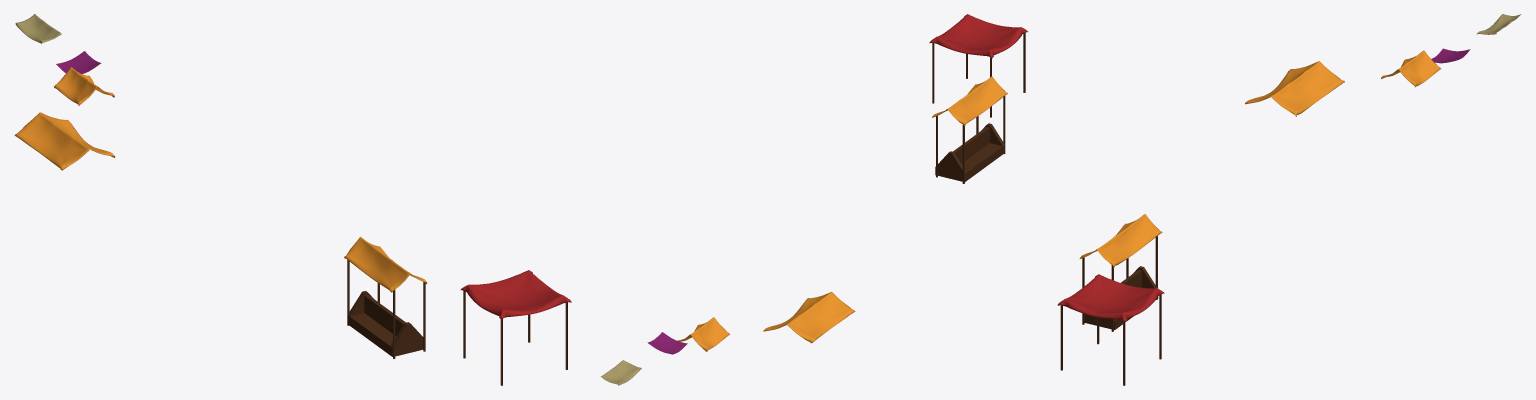
File: tarps and stalls fixed.fbx
3 renders of one model, left to right at view 1: azimuth 30°, elevation 25°; view 2: azimuth 150°, elevation 25°; view 3: azimuth 330°, elevation 25°, orthographic. The views are drawn at different scales.
Parts seen in each view (by area): view 1: Cube.001, Plane.007, PIN.003, PIN.001, Plane.006, Plane.005; view 2: Cube.001, Plane.007, PIN.003, PIN.001, Plane.006, Plane.005; view 3: Plane.007, Cube.001, PIN.003, PIN.001.
Part boxes in pixels (<box>): Cube.001: <box>344,236,427,358</box>; Plane.007: <box>460,270,571,385</box>; PIN.003: <box>14,112,115,170</box>; PIN.001: <box>54,67,114,105</box>; Plane.006: <box>15,14,61,43</box>; Plane.005: <box>56,51,101,73</box>; Cube.001: <box>932,76,1007,183</box>; Plane.007: <box>929,14,1027,117</box>; PIN.003: <box>763,292,855,343</box>; PIN.001: <box>677,317,729,351</box>; Plane.006: <box>601,360,641,385</box>; Plane.005: <box>647,332,687,354</box>; Plane.007: <box>1057,274,1164,385</box>; Cube.001: <box>1079,214,1162,331</box>; PIN.003: <box>1245,61,1344,116</box>; PIN.001: <box>1381,50,1440,87</box>.
Size of the model in its own units: 1169 by 4938 by 488.
